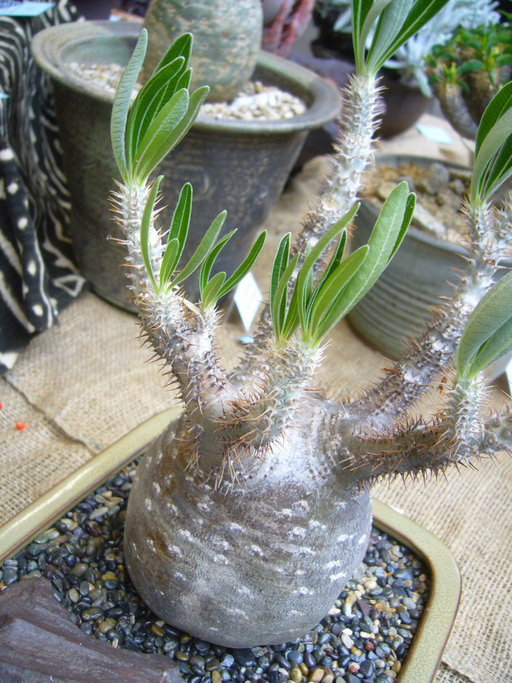Pachypodium rosulatum: (114, 54, 483, 647)
